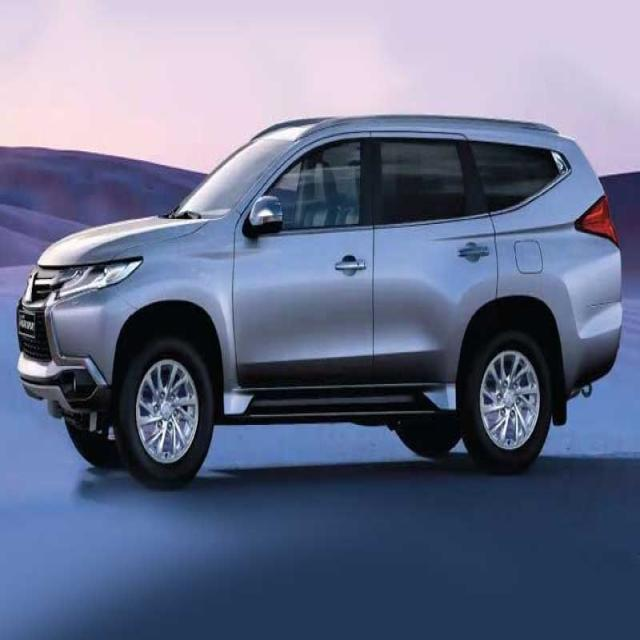light_vehicle: (16, 114, 624, 491)
